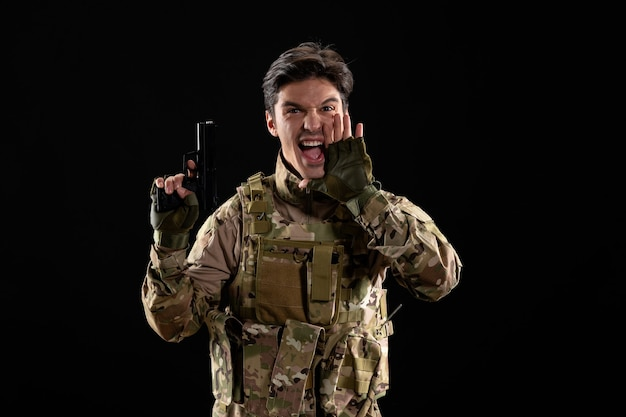gun: (179, 120, 218, 202)
